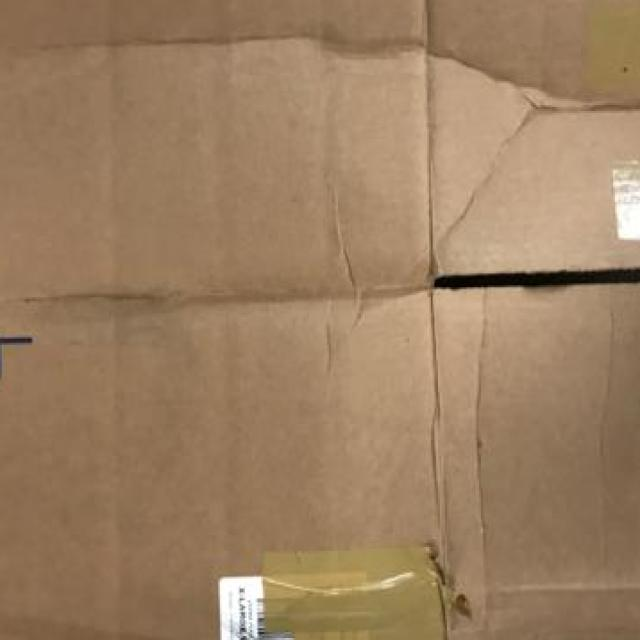organic: (8, 8, 635, 622)
